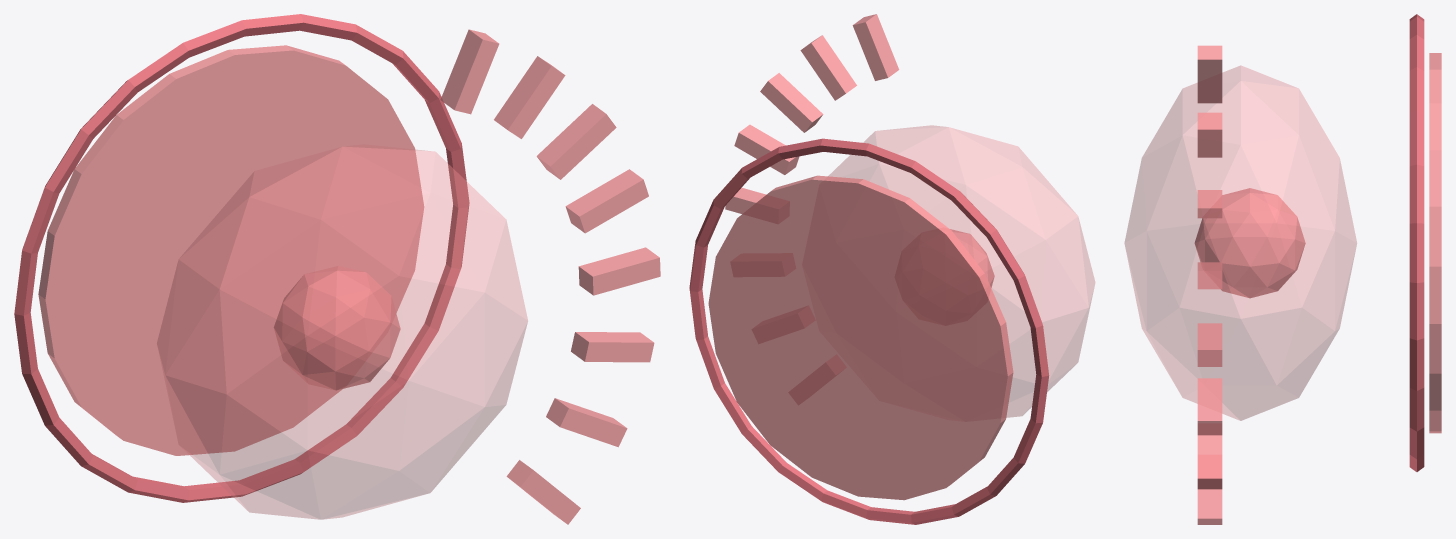
File: 01_class_special_attack_vfx.glb
3 views of the same model, side by side, from view 1: azimuth 30°, elevation 25°; view 2: azimuth 150°, elevation 25°; view 3: azimuth 270°, elevation 25° (orthographic). The views are drawn at different scales.
Parts seen in each view (by area): view 1: ability_cast_disc, stasis_shell, ability_outer_ring, class_energy_core, attack_flow_arc_seg_7, attack_flow_arc_seg_5, attack_flow_arc_seg_6, attack_flow_arc_seg_4, attack_flow_arc_seg_3, attack_flow_arc_seg_2, attack_flow_arc_seg_1, attack_flow_arc_seg_0; view 2: ability_cast_disc, stasis_shell, ability_outer_ring, attack_flow_arc_seg_7, attack_flow_arc_seg_5, attack_flow_arc_seg_6, attack_flow_arc_seg_4, class_energy_core, attack_flow_arc_seg_3; view 3: stasis_shell, class_energy_core, ability_outer_ring, ability_cast_disc, attack_flow_arc_seg_7, attack_flow_arc_seg_2, attack_flow_arc_seg_1, attack_flow_arc_seg_6, attack_flow_arc_seg_3, attack_flow_arc_seg_0, attack_flow_arc_seg_5, attack_flow_arc_seg_4.
Part boxes in pixels (left/top/right/bottom): ability_cast_disc: left=38, top=45, right=424, bottom=455; stasis_shell: left=157, top=144, right=527, bottom=519; ability_outer_ring: left=14, top=14, right=469, bottom=502; class_energy_core: left=274, top=266, right=400, bottom=390; attack_flow_arc_seg_7: left=440, top=29, right=499, bottom=114; attack_flow_arc_seg_5: left=536, top=104, right=616, bottom=179; attack_flow_arc_seg_6: left=494, top=56, right=565, bottom=138; attack_flow_arc_seg_4: left=565, top=169, right=648, bottom=233; attack_flow_arc_seg_3: left=578, top=247, right=660, bottom=295; attack_flow_arc_seg_2: left=571, top=332, right=654, bottom=362; attack_flow_arc_seg_1: left=546, top=398, right=627, bottom=447; attack_flow_arc_seg_0: left=506, top=460, right=580, bottom=524; ability_cast_disc: left=708, top=175, right=1013, bottom=500; stasis_shell: left=828, top=125, right=1095, bottom=417; ability_outer_ring: left=689, top=138, right=1049, bottom=524; attack_flow_arc_seg_7: left=852, top=14, right=899, bottom=80; attack_flow_arc_seg_5: left=760, top=73, right=823, bottom=132; attack_flow_arc_seg_6: left=800, top=35, right=856, bottom=100; attack_flow_arc_seg_4: left=734, top=124, right=799, bottom=174; class_energy_core: left=950, top=229, right=994, bottom=287; attack_flow_arc_seg_3: left=725, top=187, right=765, bottom=213; stasis_shell: left=1124, top=65, right=1356, bottom=420; class_energy_core: left=1194, top=188, right=1305, bottom=298; ability_outer_ring: left=1409, top=14, right=1424, bottom=471; ability_cast_disc: left=1429, top=53, right=1441, bottom=433; attack_flow_arc_seg_7: left=1197, top=45, right=1222, bottom=103; attack_flow_arc_seg_2: left=1197, top=378, right=1222, bottom=435; attack_flow_arc_seg_1: left=1197, top=435, right=1222, bottom=489; attack_flow_arc_seg_6: left=1197, top=112, right=1222, bottom=157; attack_flow_arc_seg_3: left=1197, top=323, right=1222, bottom=366; attack_flow_arc_seg_0: left=1197, top=489, right=1222, bottom=524; attack_flow_arc_seg_5: left=1197, top=190, right=1222, bottom=218; attack_flow_arc_seg_4: left=1197, top=262, right=1222, bottom=289.
Size of the model in its own units: 1.71 by 1.63 by 1.03.
